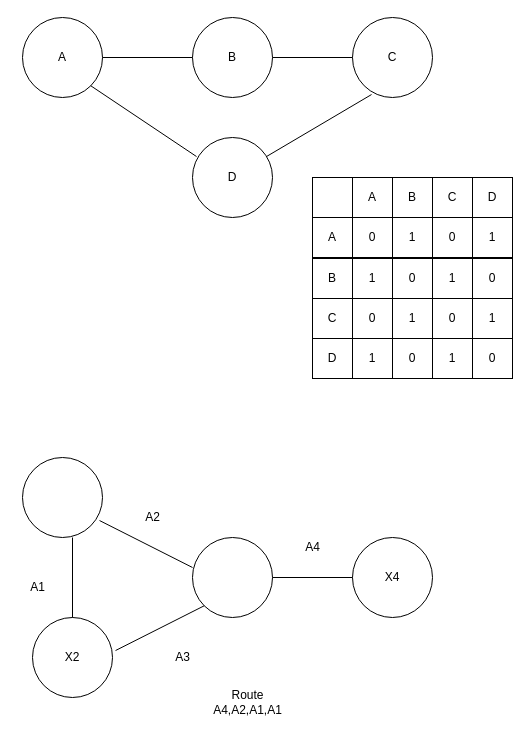
Image size: 530x740. Some labels were removed from this diagram. Here are the shapes that lost their labels. From the top down, the centre of each, then its label:
At [62,497]: "Х1".
At [232,577]: "Х3".
